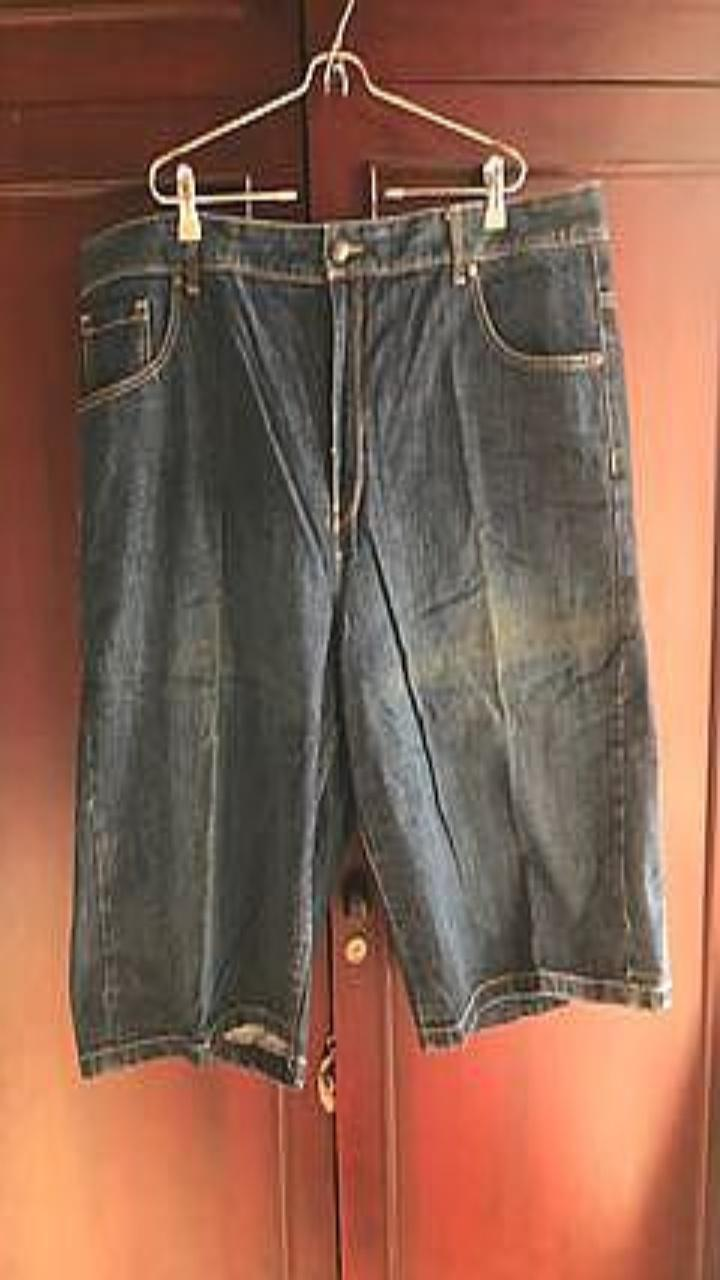Shorts: (70, 181, 670, 1086)
